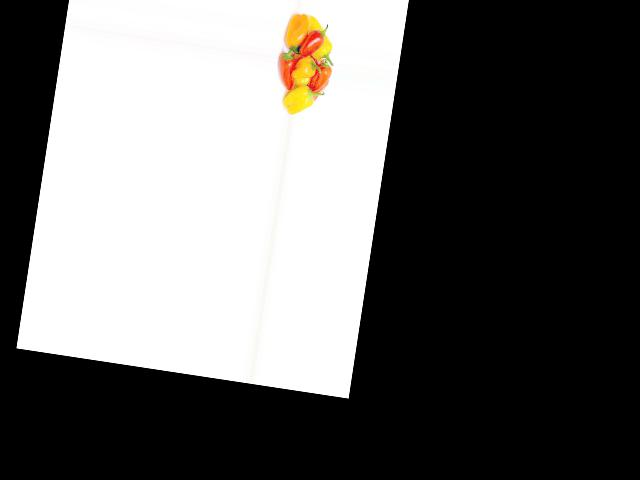bell_pepper: (302, 15, 339, 62)
